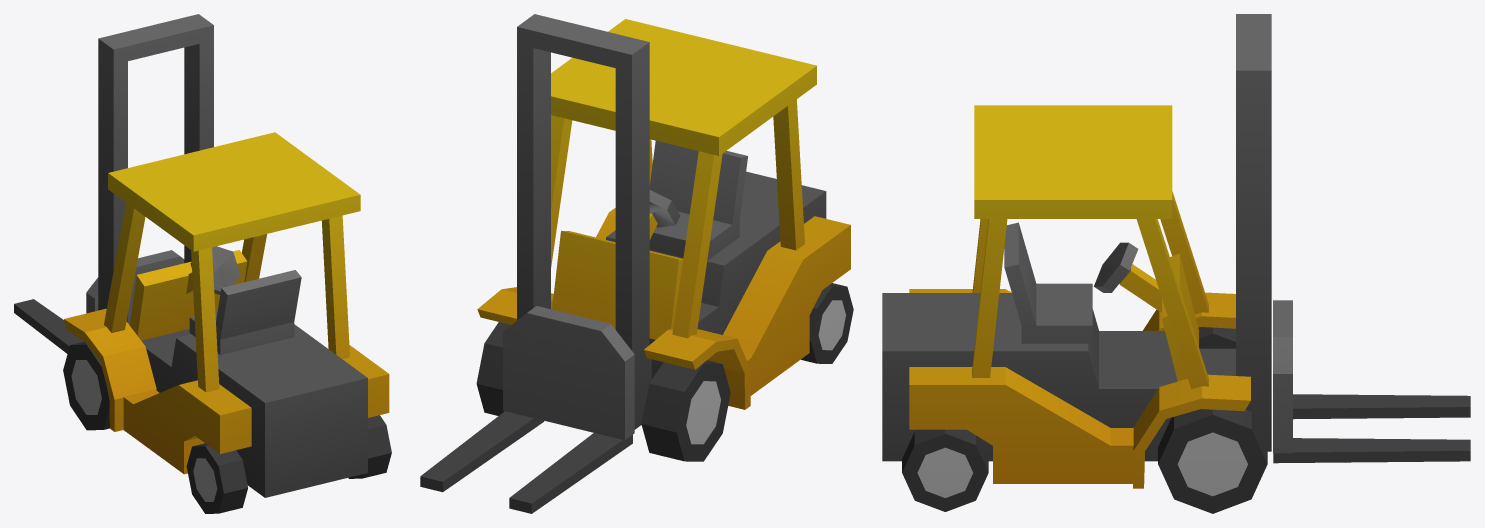
The model's file is loader car.fbx.
3 renders of one model, left to right at view 1: azimuth 30°, elevation 25°; view 2: azimuth 150°, elevation 25°; view 3: azimuth 270°, elevation 25°, orthographic. The views are drawn at different scales.
Parts seen in each view (by area): view 1: loader_car_body, rear_wheels, front_wheels; view 2: loader_car_body, front_wheels, rear_wheels; view 3: loader_car_body, front_wheels, rear_wheels.
Boxes of the visible parts, <box> form: loader_car_body: <box>14,14,389,497</box>; rear_wheels: <box>186,415,391,513</box>; front_wheels: <box>63,341,109,430</box>; loader_car_body: <box>420,14,850,513</box>; front_wheels: <box>476,322,730,461</box>; rear_wheels: <box>801,283,853,363</box>; loader_car_body: <box>882,14,1470,488</box>; front_wheels: <box>1158,327,1267,513</box>; rear_wheels: <box>902,429,988,511</box>.
Bounding box in the file's own units: 165 × 306 × 386.
1 material, 1 textured.
